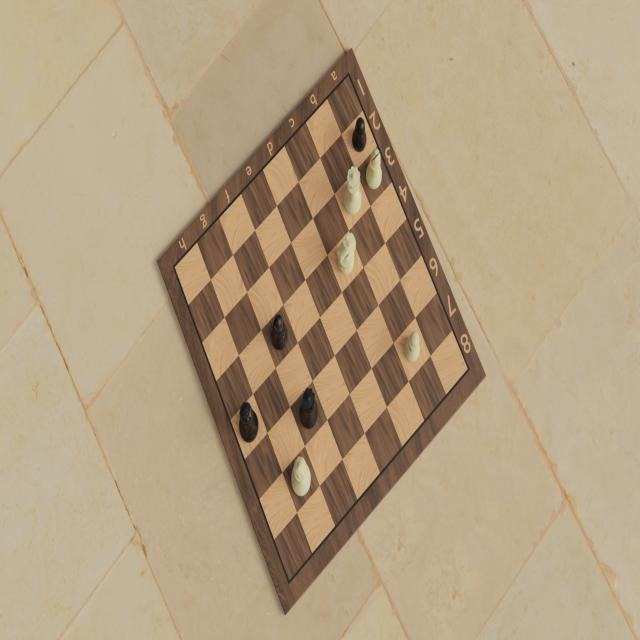black-bishop: (271, 312, 289, 350)
black-king: (237, 398, 258, 441)
black-pawn: (350, 115, 367, 152)
black-queen: (297, 387, 318, 429)
white-bishop: (365, 148, 383, 192)
white-king: (289, 454, 311, 498)
white-knight: (335, 231, 358, 277)
white-pawn: (402, 329, 421, 365)
white-queen: (342, 165, 362, 215)
